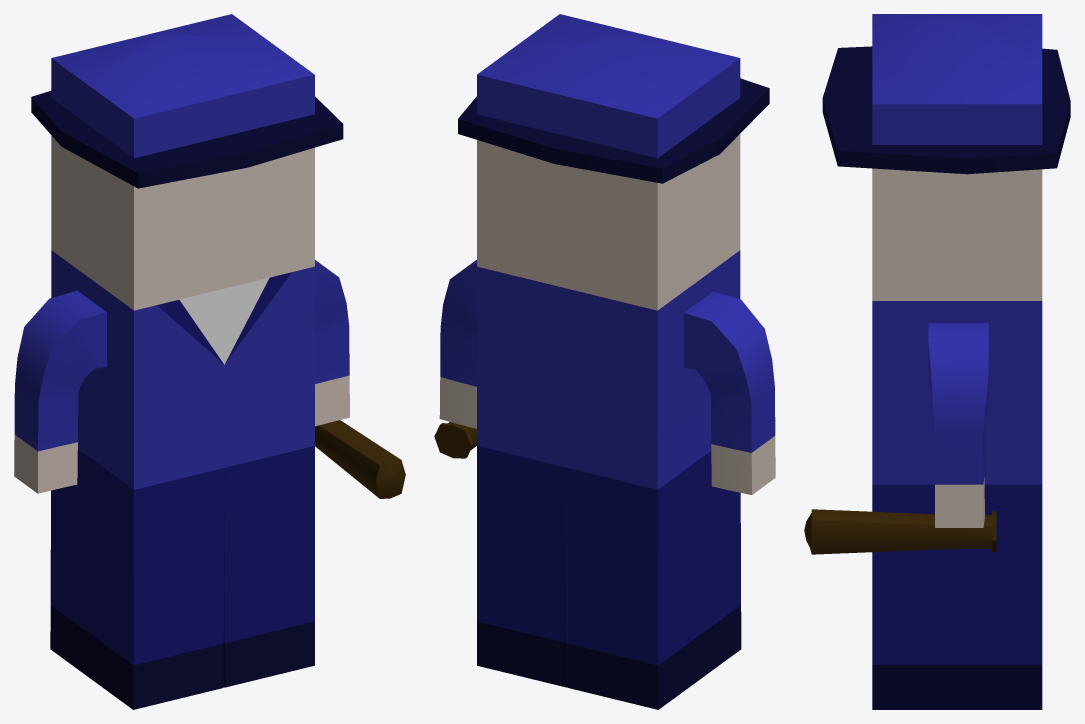
The model's file is Guard.fbx.
3 renders of one model, left to right at view 1: azimuth 30°, elevation 25°; view 2: azimuth 150°, elevation 25°; view 3: azimuth 270°, elevation 25°, orthographic. The views are drawn at different scales.
Parts seen in each view (by area): view 1: Cop, Baton; view 2: Cop, Baton; view 3: Cop, Baton.
Boxes of the visible parts, x1,y1,x2,y2 form: Cop: [14, 14, 349, 709]; Baton: [315, 420, 405, 498]; Cop: [439, 14, 775, 709]; Baton: [434, 422, 476, 458]; Cop: [822, 14, 1070, 709]; Baton: [804, 509, 996, 554].
Bounding box in the file's own units: 2.55 × 4.83 × 1.84.
